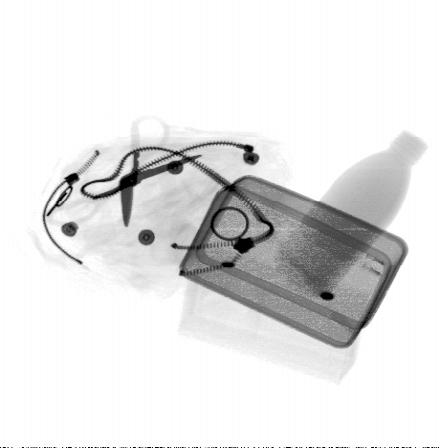Scissors: (47, 111, 205, 229)
